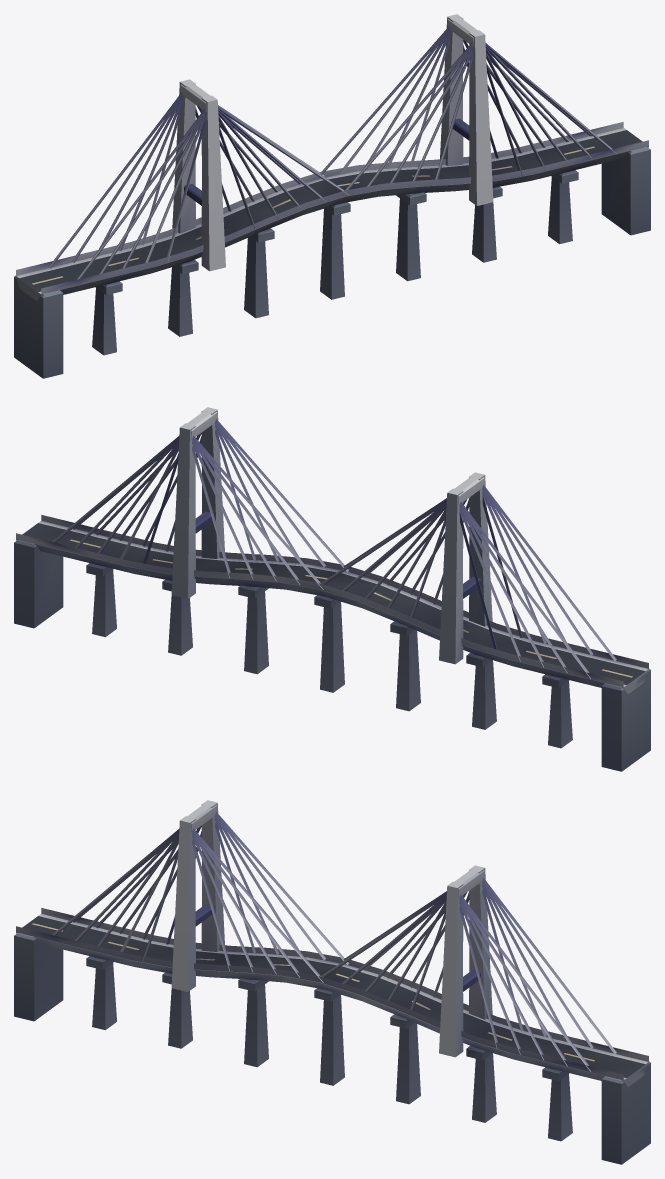
The model's file is maracaibo_bridge.glb.
The picture shows the model from 3 angles, top to bottom: view 1: azimuth 30°, elevation 25°; view 2: azimuth 150°, elevation 25°; view 3: azimuth 330°, elevation 25°; orthographic projection.
Visible parts, largest first — view 1: bridge_deck, cable_fan, pylons, piers; view 2: bridge_deck, cable_fan, pylons, piers; view 3: bridge_deck, cable_fan, pylons, piers.
Part boxes in pixels (x1,y1,x2,y2): bridge_deck: (14, 122, 650, 378); cable_fan: (49, 26, 616, 279); pylons: (172, 14, 493, 271); piers: (92, 170, 578, 355); bridge_deck: (14, 515, 650, 771); cable_fan: (52, 419, 616, 678); pylons: (171, 407, 492, 664); piers: (86, 563, 572, 748); bridge_deck: (14, 908, 650, 1164); cable_fan: (52, 812, 616, 1071); pylons: (171, 800, 492, 1057); piers: (86, 956, 572, 1141).
Size of the model in its own units: 96 by 35.6 by 10.4.
